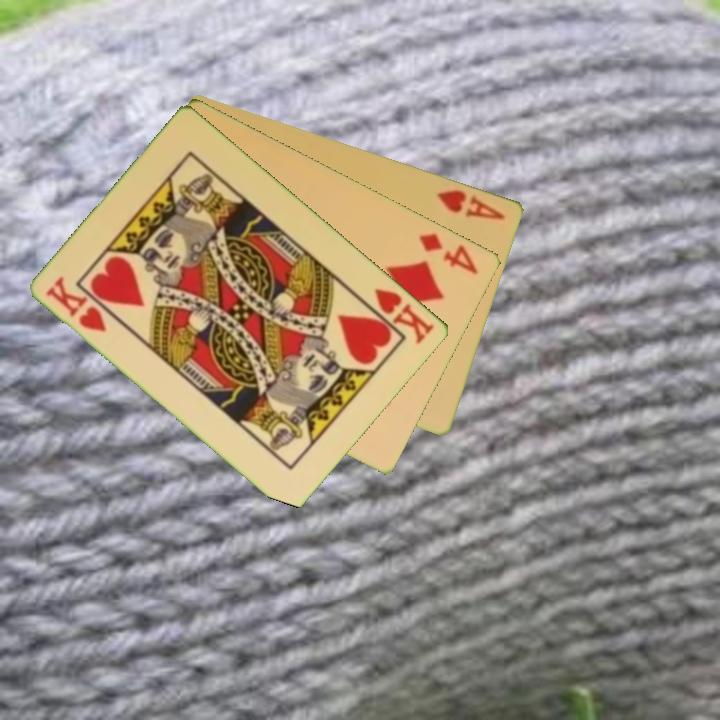4d: (416, 229, 482, 277)
Ah: (433, 185, 509, 223)
Kh: (358, 284, 438, 348), (42, 272, 111, 335)
